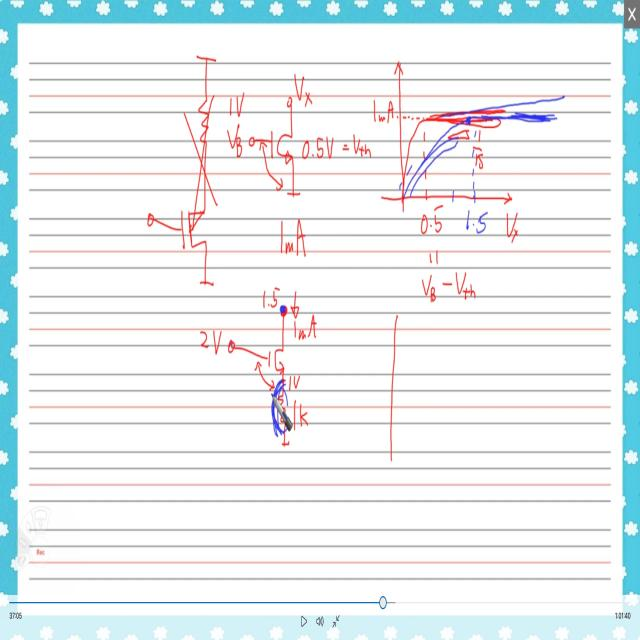panseo: (143, 41, 372, 462), (373, 45, 567, 311)
